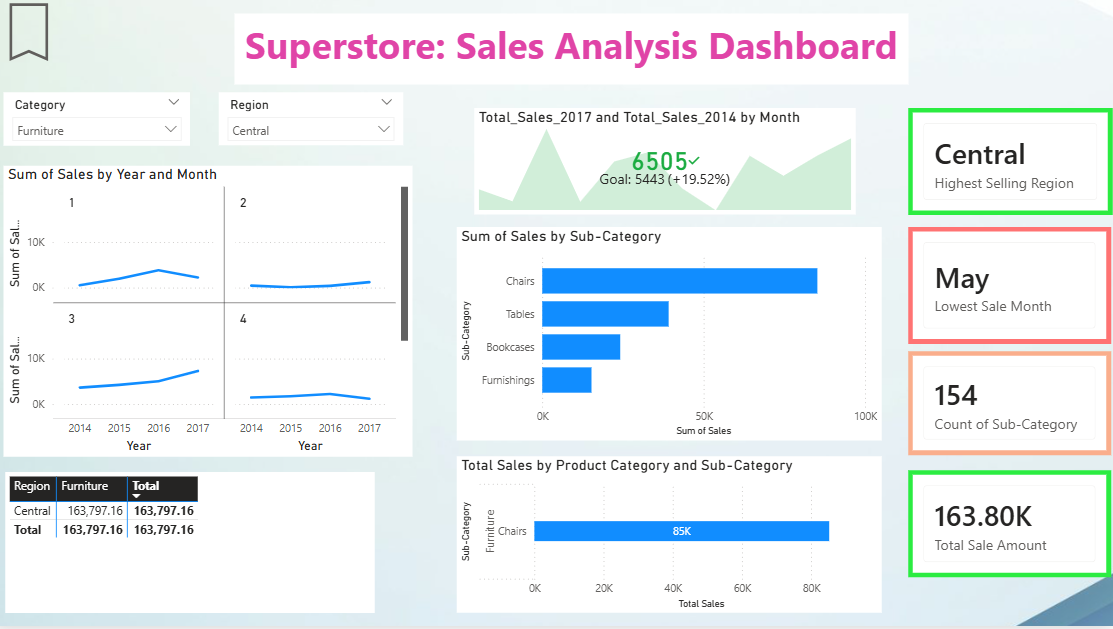

What the dashboard file says about the page in this screenshot:
{"tool":"powerbi","page":{"name":"Sales_Analysis_Product","canvas":[1280,720],"ordinal":0},"visuals":[{"type":"barChart","fields":{"Category":["Sample - Superstore.Category","Sample - Superstore.Sub-Category"],"Y":["Sum(Sample - Superstore.Sales)"]},"box":[530.9,525.2,485.5,178.9],"z":0},{"type":"lineChart","fields":{"Rows":["Sample - Superstore.Month"],"Y":["Sum(Sample - Superstore.Sales)"],"Category":["Sample - Superstore.Month","Sample - Superstore.Year"]},"box":[13,194.8,467.5,332],"z":1000},{"type":"pivotTable","fields":{"Columns":["Sample - Superstore.Category"],"Rows":["Sample - Superstore.Region"],"Values":["Sum(Sample - Superstore.Sales)"]},"box":[13.3,543.6,422.4,161],"z":2000},{"type":"slicer","fields":{"Values":["Sample - Superstore.Category"]},"box":[13,109.4,213.3,61.2],"z":3000},{"type":"slicer","fields":{"Values":["Sample - Superstore.Region"]},"box":[257.5,109.5,210.8,60.8],"z":4000},{"type":"cardVisual","fields":{"Data":["Sum(Sample - Superstore.Sales)"]},"box":[1046.2,541.7,231.9,122.4],"z":5000},{"type":"cardVisual","fields":{"Data":["CountNonNull(Sample - Superstore.Sub-Category)"]},"box":[1046.2,406.2,231.9,118.7],"z":6000},{"type":"cardVisual","fields":{"Data":["Min(Sample - Superstore.Region)"]},"box":[1046.2,128,233.7,122.4],"z":7000},{"type":"cardVisual","fields":{"Data":["Min(Sample - Superstore.Month Name)"]},"box":[1046.2,263.4,231.9,133.6],"z":8000},{"type":"kpi","fields":{"TrendLine":["Sample - Superstore.Month"],"Indicator":["Sample - Superstore.Total_Sales_2017"],"Goal":["Sample - Superstore.Total_Sales_2014"]},"box":[549.4,127.7,435.8,121.6],"z":9000},{"type":"clusteredBarChart","fields":{"Category":["Sample - Superstore.Sub-Category"],"Y":["Sum(Sample - Superstore.Sales)"]},"box":[530.9,264,485.5,244.2],"z":10000},{"type":"actionButton","box":[0,0,127.8,82.3],"z":11000},{"type":"textbox","box":[275.7,20.3,770.3,81.1],"z":11001}]}

Visuals, with their boxes in screenshot pixels (x1, y1, x2, y2), scaled from the page's 1280x720 canvas onto the 1113x629 screenshot:
barChart - Sample - Superstore.Category x Sample - Superstore.Sub-Category: Rect(462, 459, 884, 615)
lineChart - Sample - Superstore.Month x Sum(Sample - Superstore.Sales): Rect(11, 170, 418, 460)
pivotTable - Sample - Superstore.Category x Sample - Superstore.Region: Rect(12, 475, 379, 616)
slicer - Sample - Superstore.Category: Rect(11, 96, 197, 149)
slicer - Sample - Superstore.Region: Rect(224, 96, 407, 149)
cardVisual - Sum(Sample - Superstore.Sales): Rect(910, 473, 1111, 580)
cardVisual - CountNonNull(Sample - Superstore.Sub-Category): Rect(910, 355, 1111, 459)
cardVisual - Min(Sample - Superstore.Region): Rect(910, 112, 1112, 219)
cardVisual - Min(Sample - Superstore.Month Name): Rect(910, 230, 1111, 347)
kpi - Sample - Superstore.Month x Sample - Superstore.Total_Sales_2017: Rect(478, 112, 857, 218)
clusteredBarChart - Sample - Superstore.Sub-Category x Sum(Sample - Superstore.Sales): Rect(462, 231, 884, 444)
actionButton: Rect(0, 0, 111, 72)
textbox: Rect(240, 18, 910, 89)
